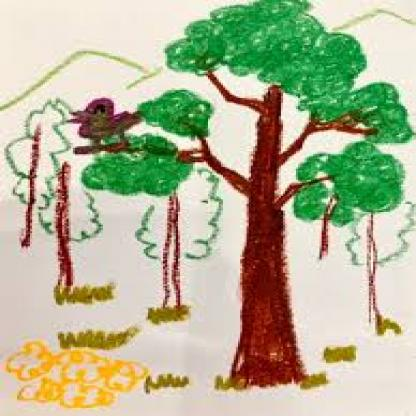bird: (68, 95, 146, 148)
branch_cut: (173, 63, 381, 206)
crown_cloud: (85, 2, 414, 226)
trunk_straight: (231, 231, 306, 351)
